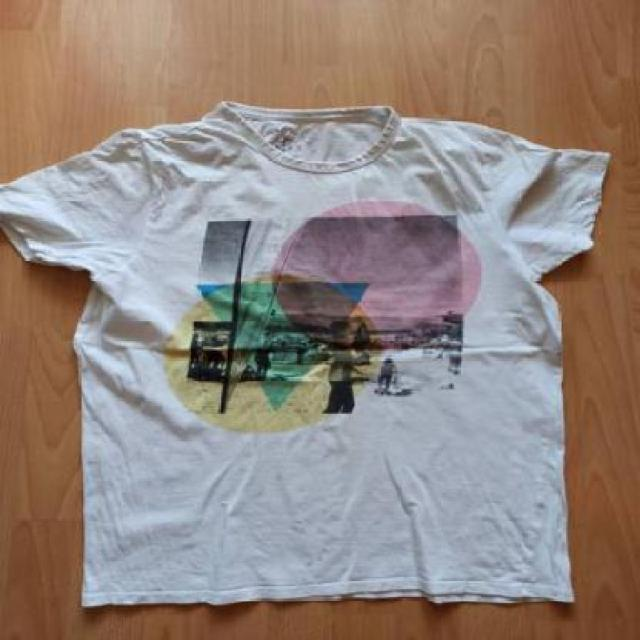shirt: (0, 106, 638, 624)
